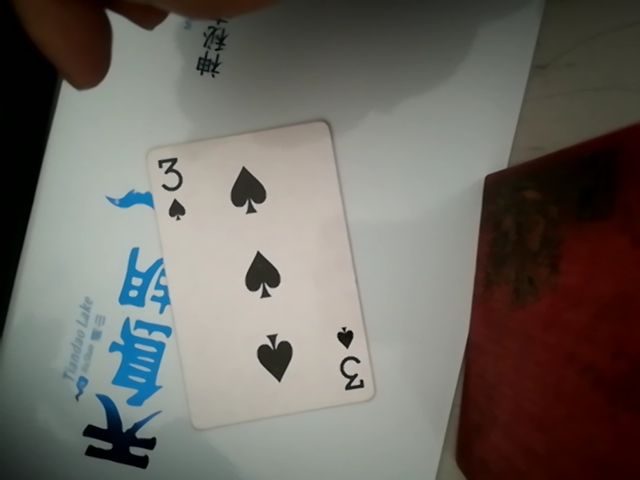ht 3: (149, 114, 368, 432)
